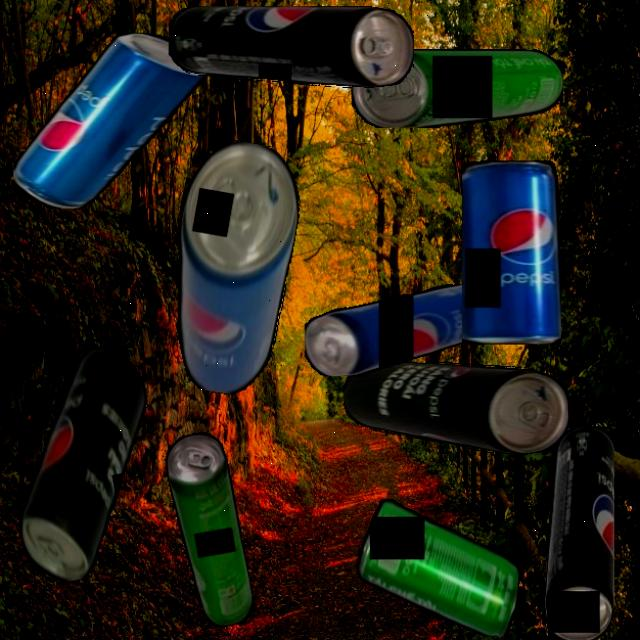debris: (0, 342, 176, 588), (152, 134, 310, 401), (14, 32, 208, 208), (356, 498, 519, 637), (342, 361, 568, 454), (168, 6, 414, 88), (162, 429, 256, 631), (461, 160, 561, 344), (305, 283, 500, 376), (352, 48, 563, 128), (543, 425, 614, 640)
